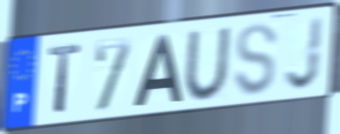7: (93, 37, 133, 115)
A: (130, 32, 184, 110)
J: (283, 14, 325, 93)
S: (231, 20, 279, 98)
T: (47, 42, 83, 117)
U: (182, 24, 233, 103)
